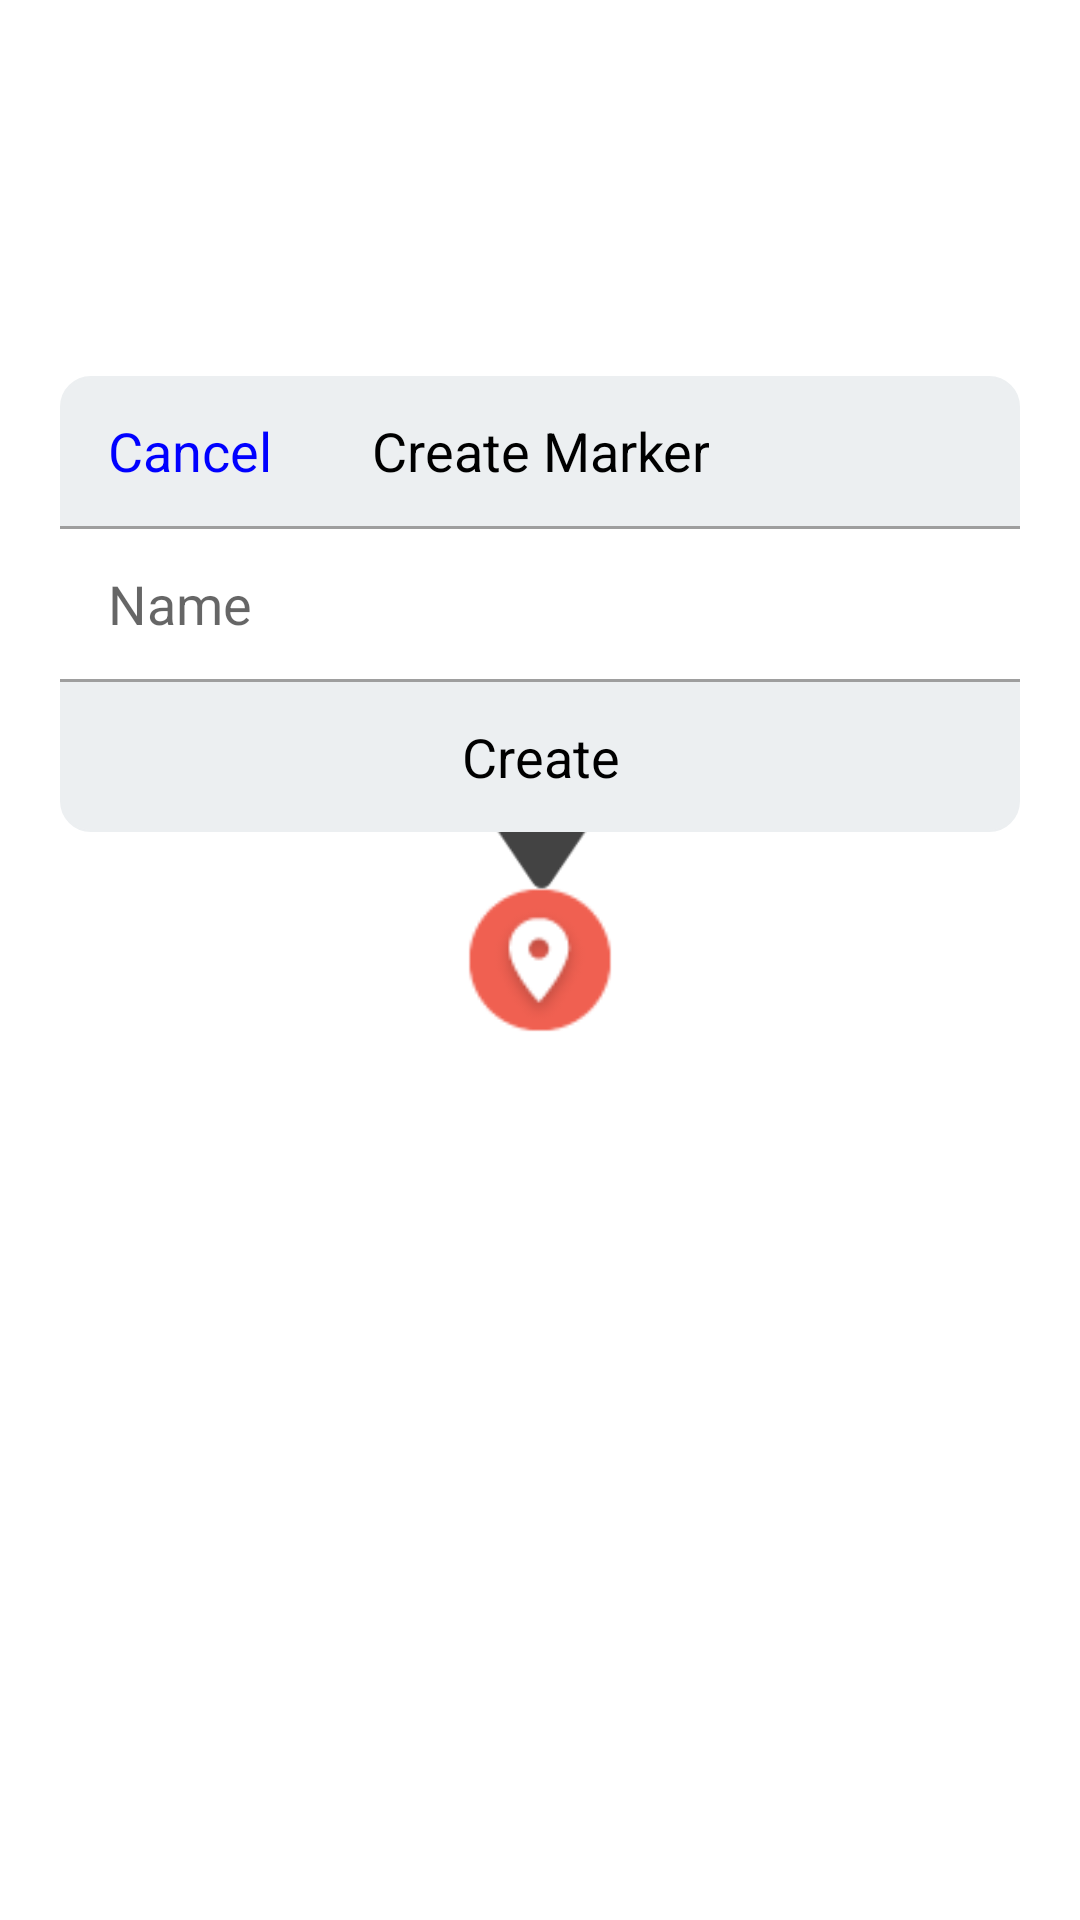

Icon bounding boxes for this 1080*1920 phone screenshot, format (x1, y1, x2, y2):
down arrow: (469, 773, 615, 893)
workspace marker: (469, 870, 611, 1031)
